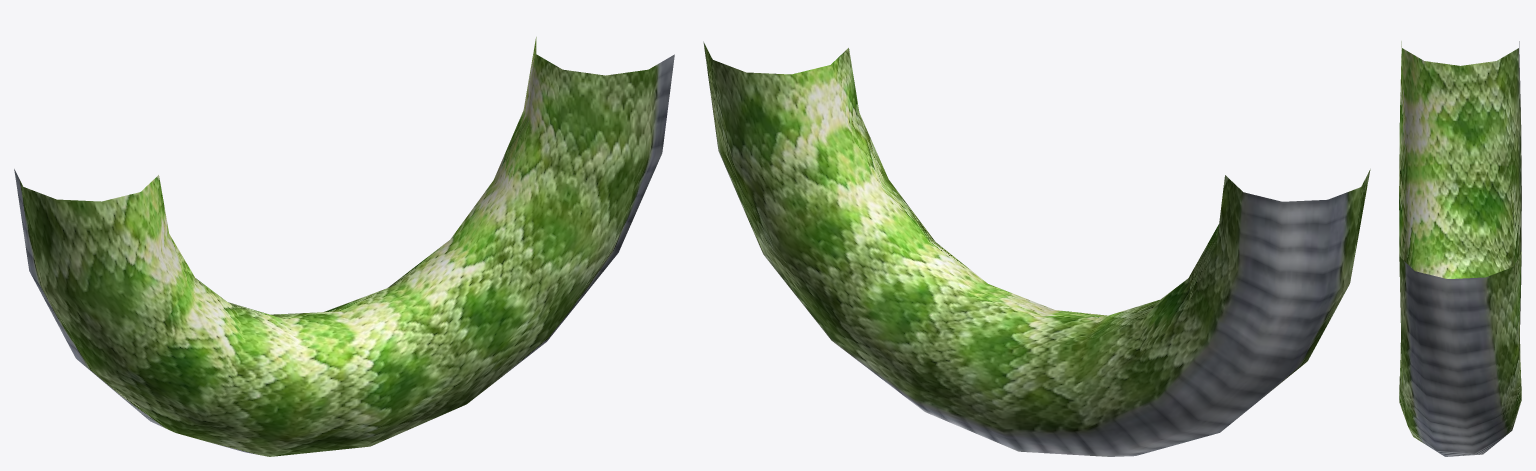
3 renders of one model, left to right at view 1: azimuth 30°, elevation 25°; view 2: azimuth 150°, elevation 25°; view 3: azimuth 270°, elevation 25°, orthographic. The views are drawn at different scales.
Parts seen in each view (by area): view 1: model_object66; view 2: model_object66; view 3: model_object66.
Boxes of the visible parts, <box> form: model_object66: <box>14,37,674,456</box>; model_object66: <box>703,41,1370,456</box>; model_object66: <box>1399,41,1521,456</box>.
Size of the model in its own units: 5.05 by 2.53 by 0.9883.
Materials: 1 (1 with a texture image).
